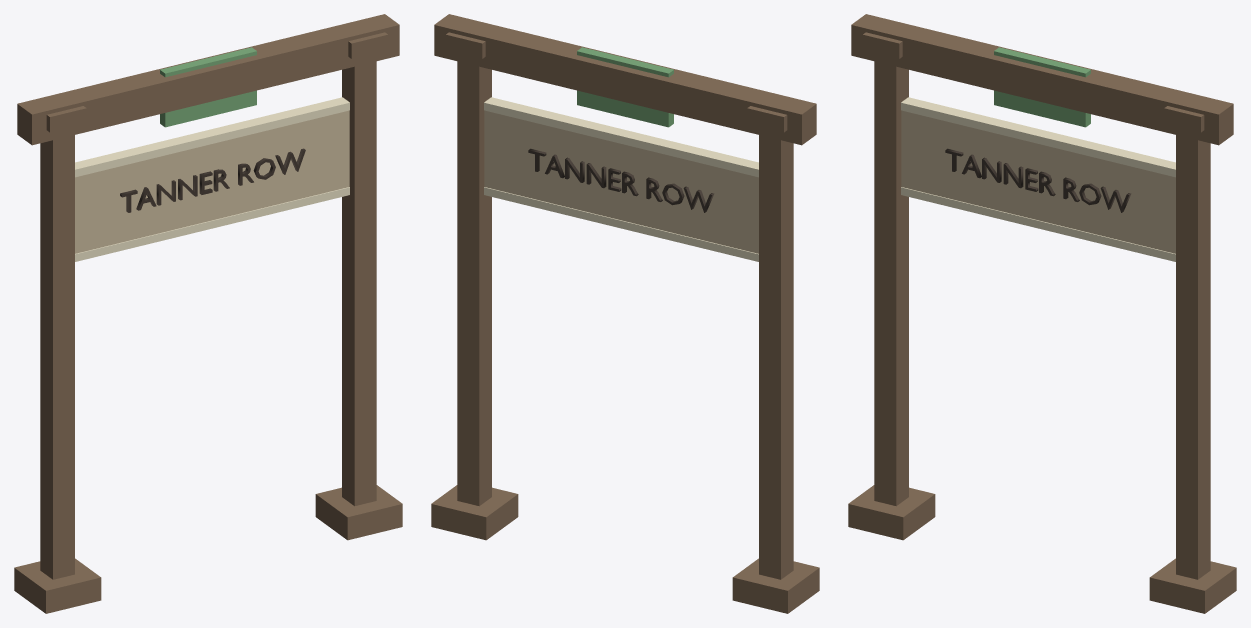
The model's file is prop_ward_east.glb.
The picture shows the model from 3 angles, left to right: view 1: azimuth 30°, elevation 25°; view 2: azimuth 150°, elevation 25°; view 3: azimuth 330°, elevation 25°; orthographic projection.
Visible parts, largest first — view 1: prop_ward_sign; view 2: prop_ward_sign; view 3: prop_ward_sign.
Part boxes in pixels (x1=…): prop_ward_sign: x1=14, y1=14, x2=402, y2=613; prop_ward_sign: x1=431, y1=14, x2=819, y2=613; prop_ward_sign: x1=848, y1=14, x2=1236, y2=613.
Bounding box in the file's own units: 2 × 2.59 × 0.3.
